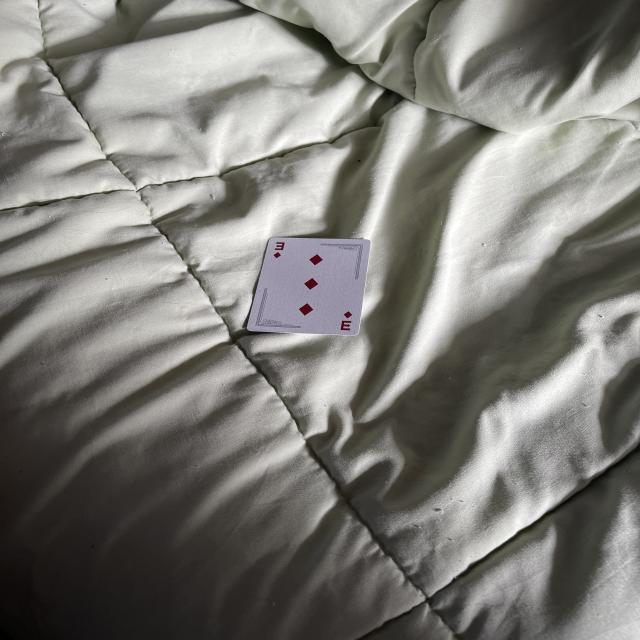3 of diamonds: (246, 237, 371, 338)
